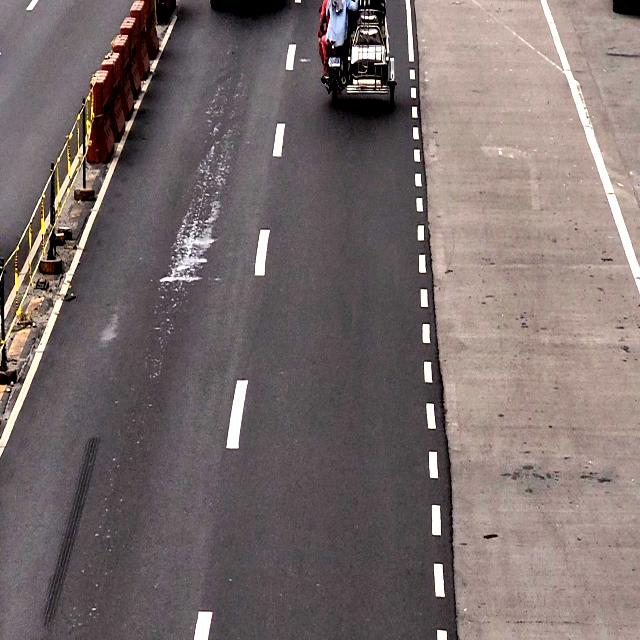Tricycle: (321, 0, 396, 104)
